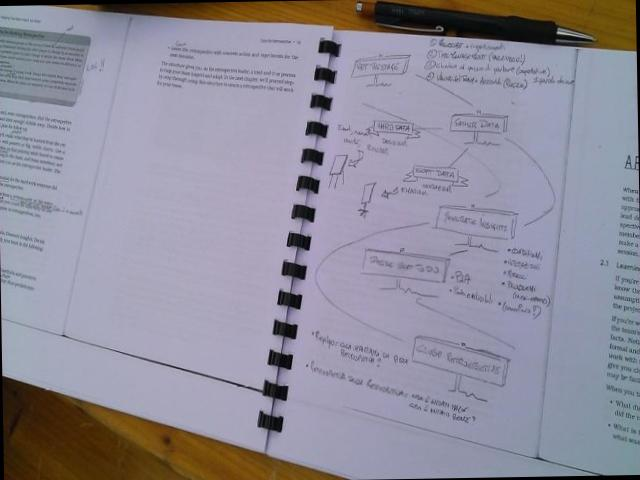PEN: (333, 0, 628, 52)
